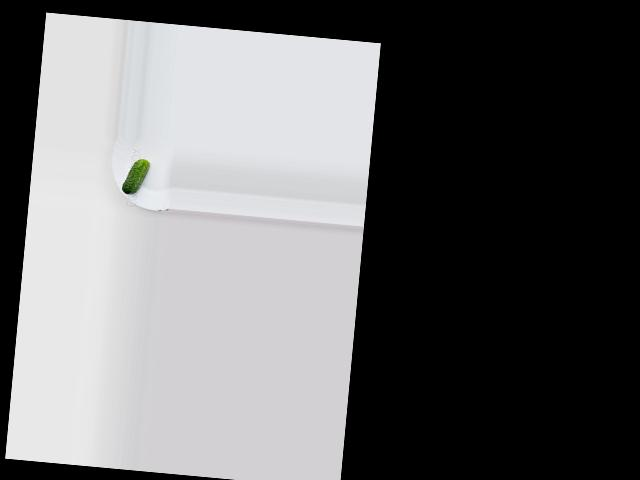cucumber: (122, 157, 150, 195)
